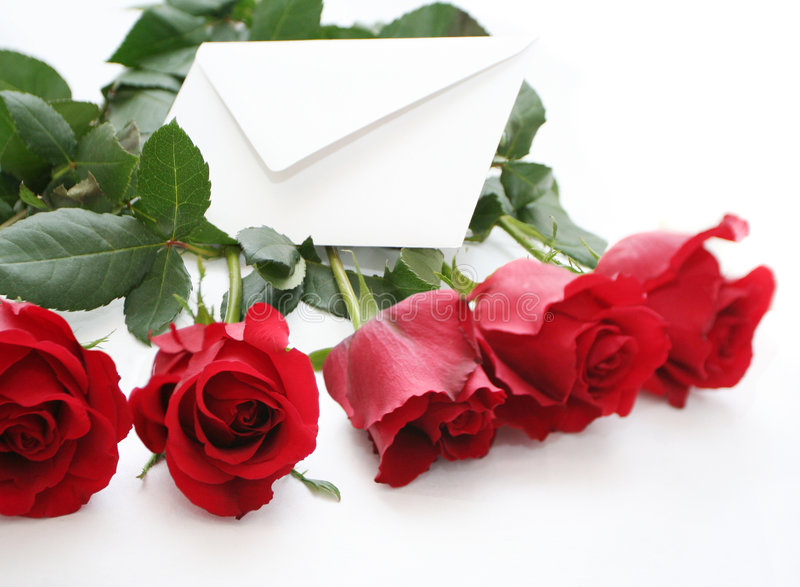RedRose: (318, 303, 517, 502), (138, 317, 326, 523), (464, 242, 651, 444), (4, 285, 130, 530)
